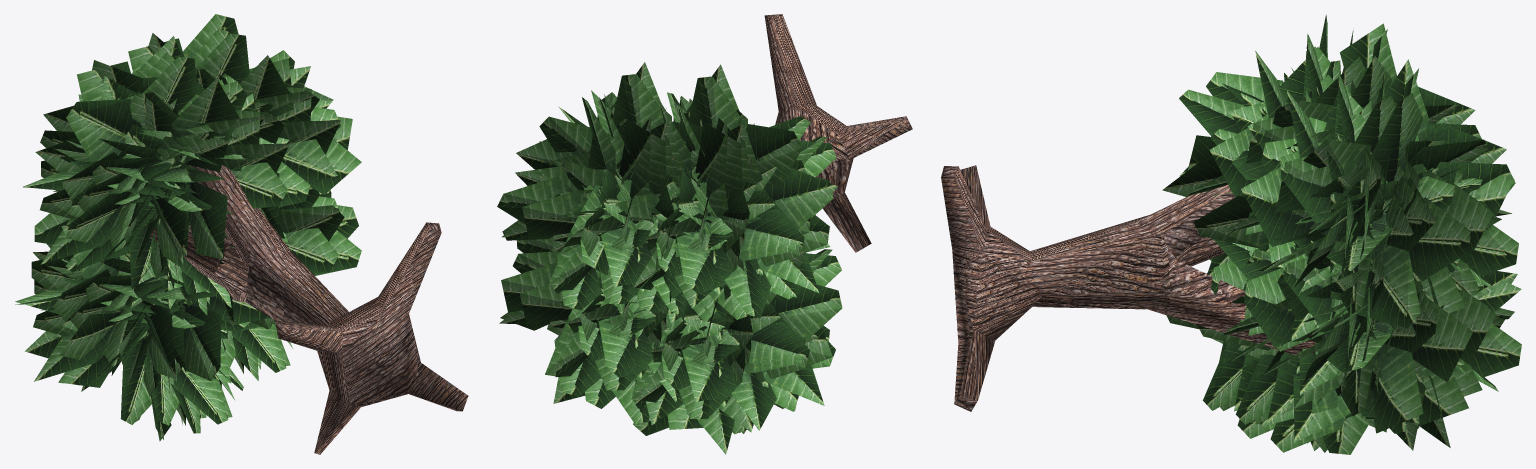
Rendered from tree2.fbx.
3 renders of one model, left to right at view 1: azimuth 30°, elevation 25°; view 2: azimuth 150°, elevation 25°; view 3: azimuth 270°, elevation 25°, orthographic. The views are drawn at different scales.
Parts seen in each view (by area): view 1: Cube; view 2: Cube; view 3: Cube.
Part boxes in pixels (x1=…): Cube: x1=15, y1=14, x2=468, y2=454; Cube: x1=497, y1=14, x2=912, y2=454; Cube: x1=941, y1=14, x2=1521, y2=454.
Bounding box in the file's own units: 660 × 756 × 951.
